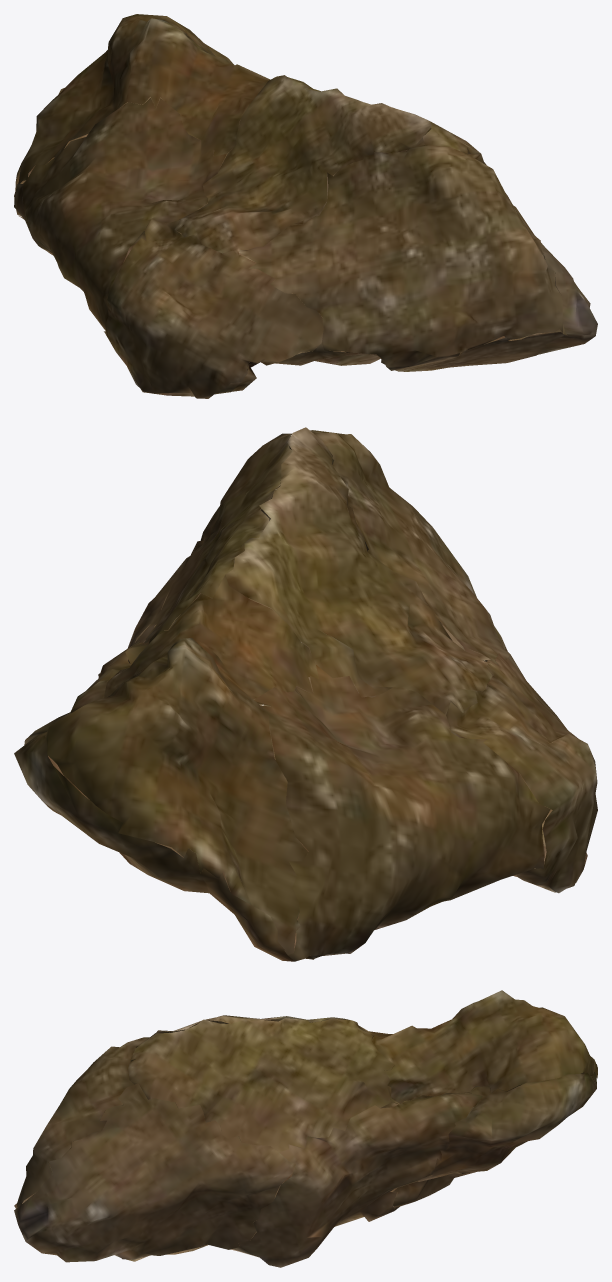
The model's file is rocks.glb.
The picture shows the model from 3 angles, top to bottom: view 1: azimuth 30°, elevation 25°; view 2: azimuth 150°, elevation 25°; view 3: azimuth 270°, elevation 25°; orthographic projection. The views are drawn at different scales.
Parts seen in each view (by area): view 1: rock_moss_set_01_rock01; view 2: rock_moss_set_01_rock01; view 3: rock_moss_set_01_rock01.
Part boxes in pixels (<box>): rock_moss_set_01_rock01: <box>14,14,597,398</box>; rock_moss_set_01_rock01: <box>14,427,597,961</box>; rock_moss_set_01_rock01: <box>14,990,597,1267</box>.
Bounding box in the file's own units: 2.24 × 1.47 × 3.38.
Materials: 1 (1 with a texture image).
